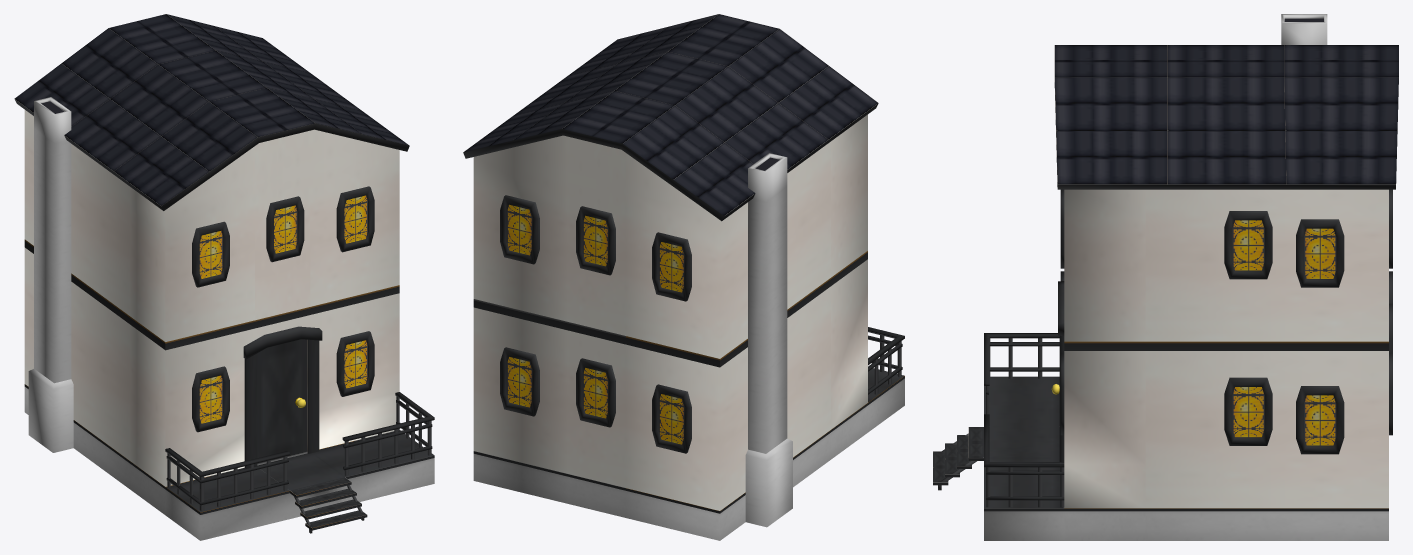
File: Town Houses Variant 4 (Blue).fbx
3 views of the same model, side by side, from view 1: azimuth 30°, elevation 25°; view 2: azimuth 150°, elevation 25°; view 3: azimuth 270°, elevation 25° (orthographic). The views are drawn at different scales.
Parts seen in each view (by area): view 1: Town House 4 V3; view 2: Town House 4 V3; view 3: Town House 4 V3.
Boxes of the visible parts, bbox=[...] form: Town House 4 V3: bbox=[14, 14, 434, 540]; Town House 4 V3: bbox=[463, 14, 904, 540]; Town House 4 V3: bbox=[933, 14, 1398, 540].
Bounding box in the file's own units: 625 × 820 × 836.
1 material, 1 textured.
